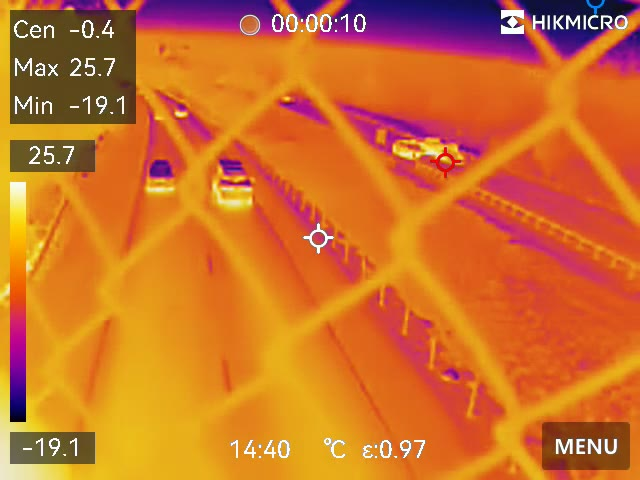vehicle: (212, 155, 254, 219), (144, 154, 179, 199), (379, 138, 430, 164), (427, 133, 466, 166), (172, 104, 187, 122)
